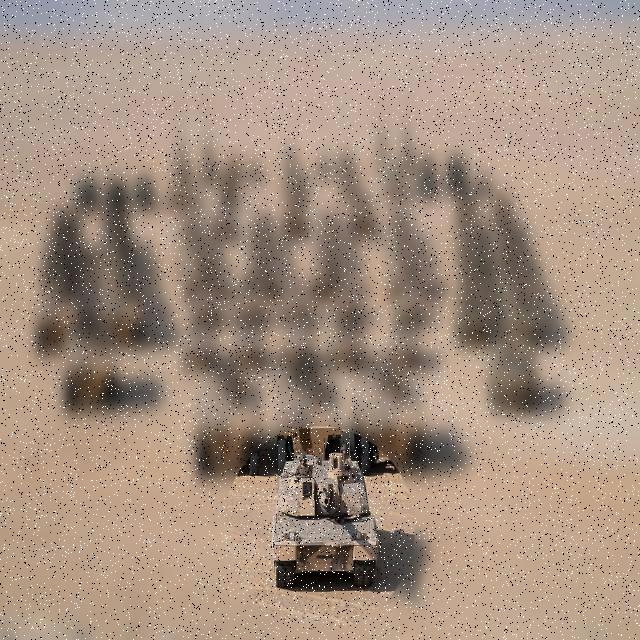MIL_MBT: (269, 447, 382, 593)
